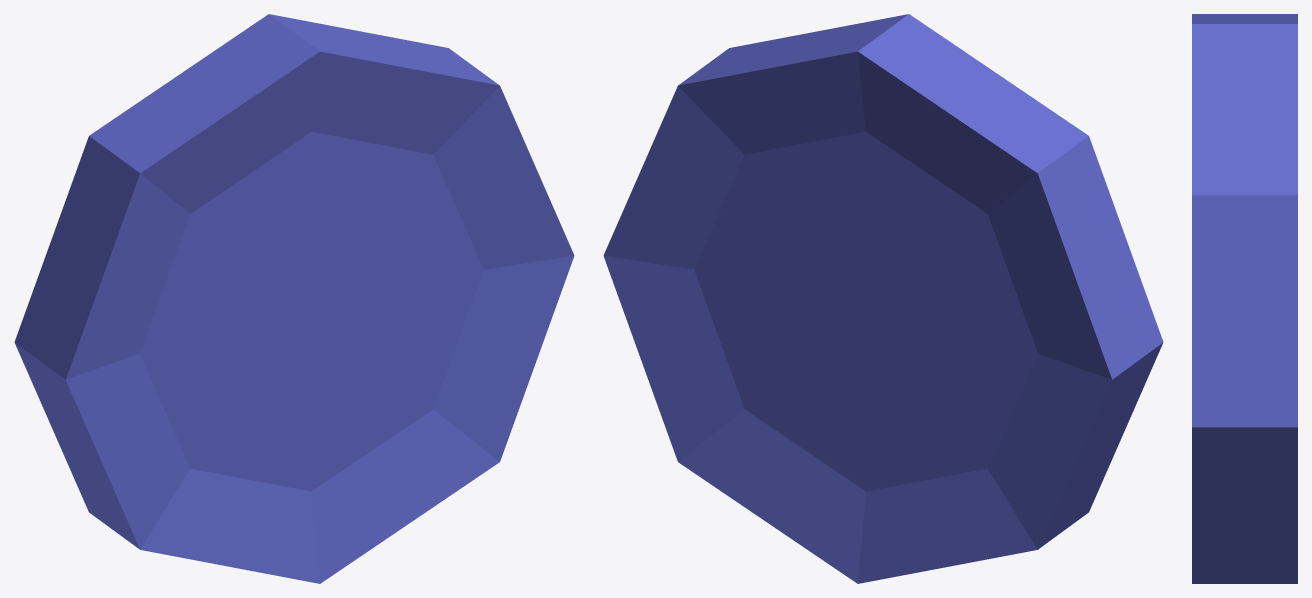
The model's file is coin-blue.gltf.
3 renders of one model, left to right at view 1: azimuth 30°, elevation 25°; view 2: azimuth 150°, elevation 25°; view 3: azimuth 270°, elevation 25°, orthographic. The views are drawn at different scales.
Visible parts, largest first — view 1: Cylinder.001; view 2: Cylinder.001; view 3: Cylinder.001.
Boxes of the visible parts, box(x1,y1,x2,y2) form: Cylinder.001: box(14, 14, 574, 583); Cylinder.001: box(603, 14, 1163, 583); Cylinder.001: box(1192, 14, 1297, 583).
Bounding box in the file's own units: 0.505 × 0.505 × 0.0882.
